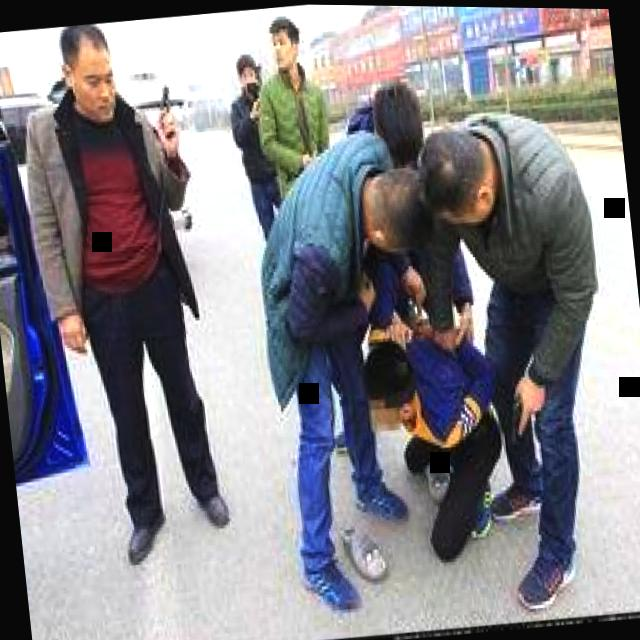Fall-Detected: (356, 261, 530, 584)
